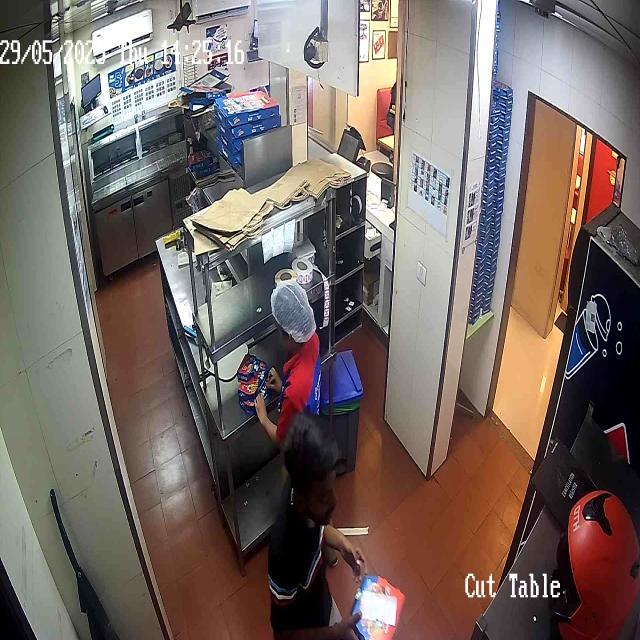helmet: (551, 488, 640, 639)
no_helmet: (282, 413, 340, 525)
